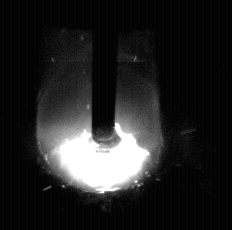arame: (92, 0, 116, 147)
poca: (36, 0, 164, 230)
